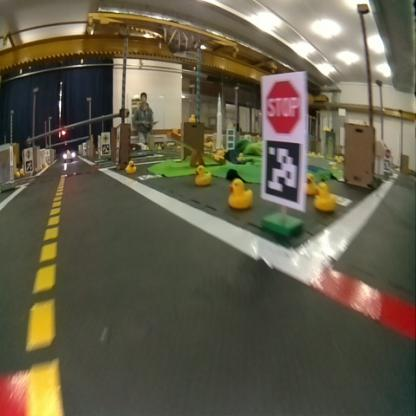Duckie: (228, 177, 252, 208), (314, 184, 334, 209), (194, 166, 212, 184), (306, 170, 315, 192), (125, 160, 136, 172)
QR code: (262, 138, 302, 204), (138, 172, 162, 180)
Stop sign: (264, 78, 302, 135)
Traffic light: (60, 127, 66, 136)
